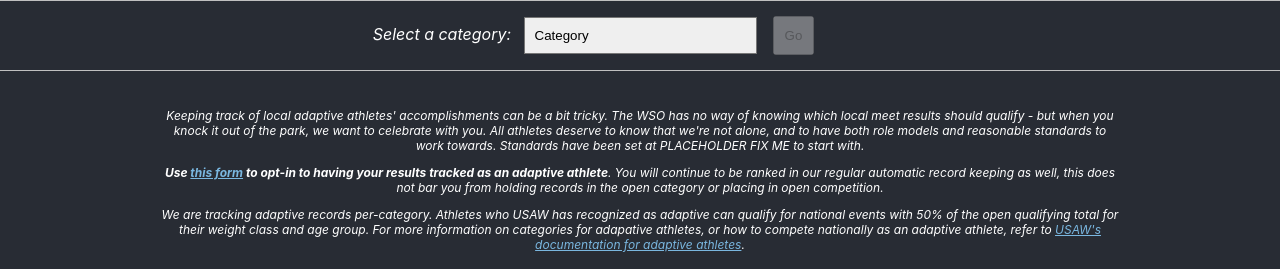
AdaptiveRecords (user-based) › Go stays disabled until a category is picked, and nothing loads before it is pressed
Expected: the button "Go" is disabled, [772, 16, 814, 55]
Select "Visual Impairment" in the dropdown named "Category": (640, 36) [524, 17, 756, 54]
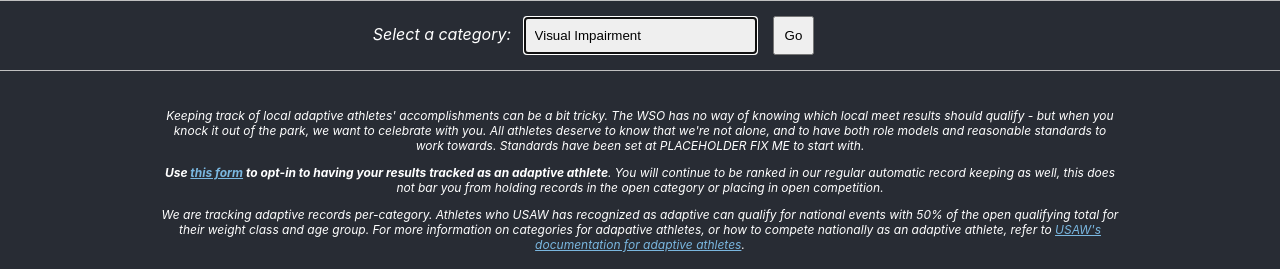
Result: the button "Go" is enabled at [772, 16, 814, 55]
